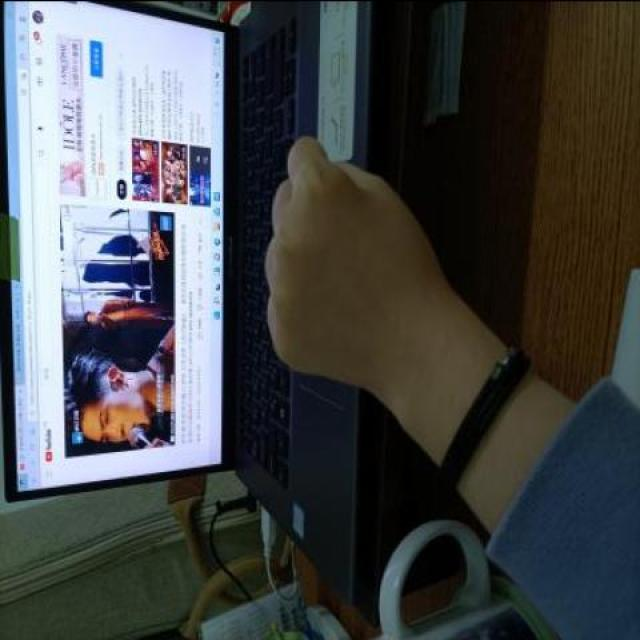Closed Hand: (259, 130, 441, 389)
